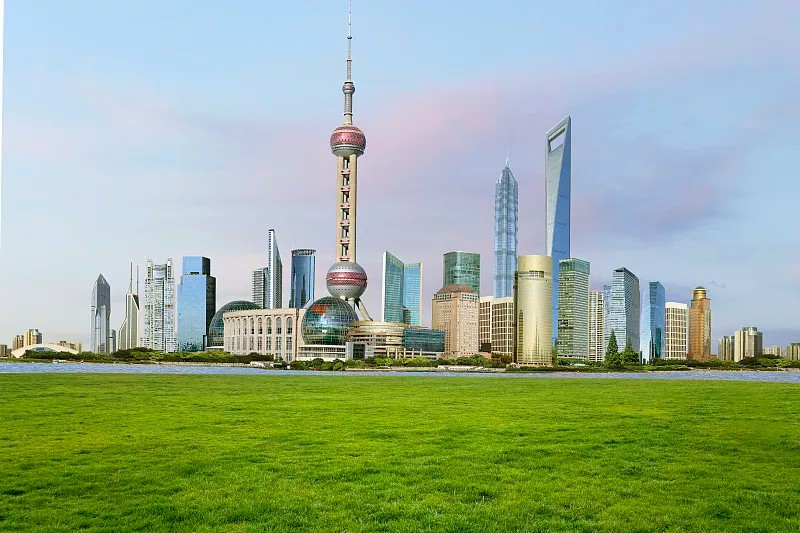Oriental: (326, 1, 373, 322)
